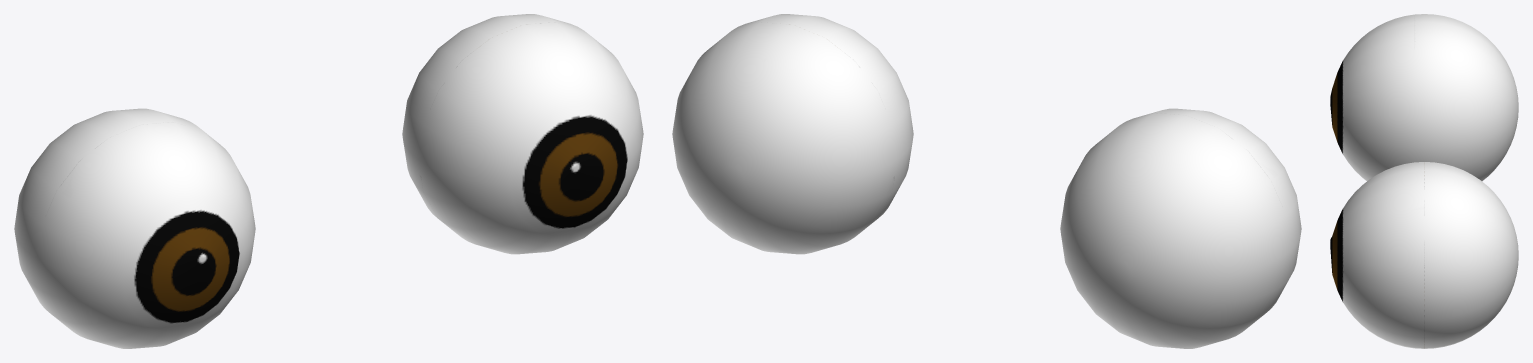
File: augen_export_new.fbx
3 views of the same model, side by side, from view 1: azimuth 30°, elevation 25°; view 2: azimuth 150°, elevation 25°; view 3: azimuth 270°, elevation 25° (orthographic). The views are drawn at different scales.
Parts seen in each view (by area): view 1: polySurface2; view 2: polySurface2; view 3: polySurface2.
Boxes of the visible parts, x1,y1,x2,y2 form: polySurface2: [14, 14, 643, 348]; polySurface2: [672, 14, 1301, 348]; polySurface2: [1330, 14, 1518, 348].
Size of the model in its own units: 0.7622 by 0.2668 by 0.2669.
